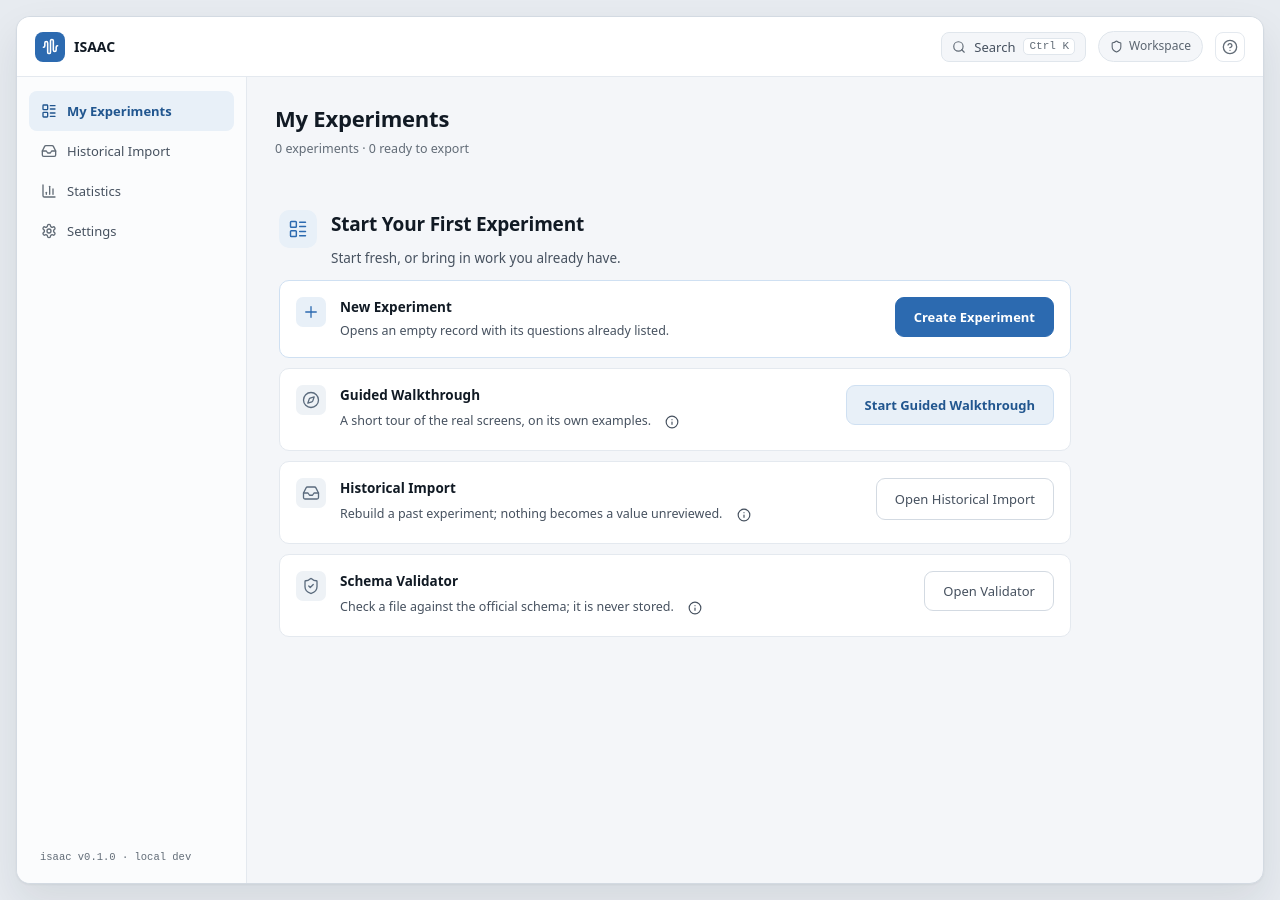
Test: worked-example session — cleanup failure › T5 · a failed DELETE still releases the reader, and leaks no example into the ordinary UI
This screenshot has width=1280, height=900.
Click the button "Start Guided Walkthrough".
click(950, 405)  # box [846,385,1054,425]
(page scrolled)
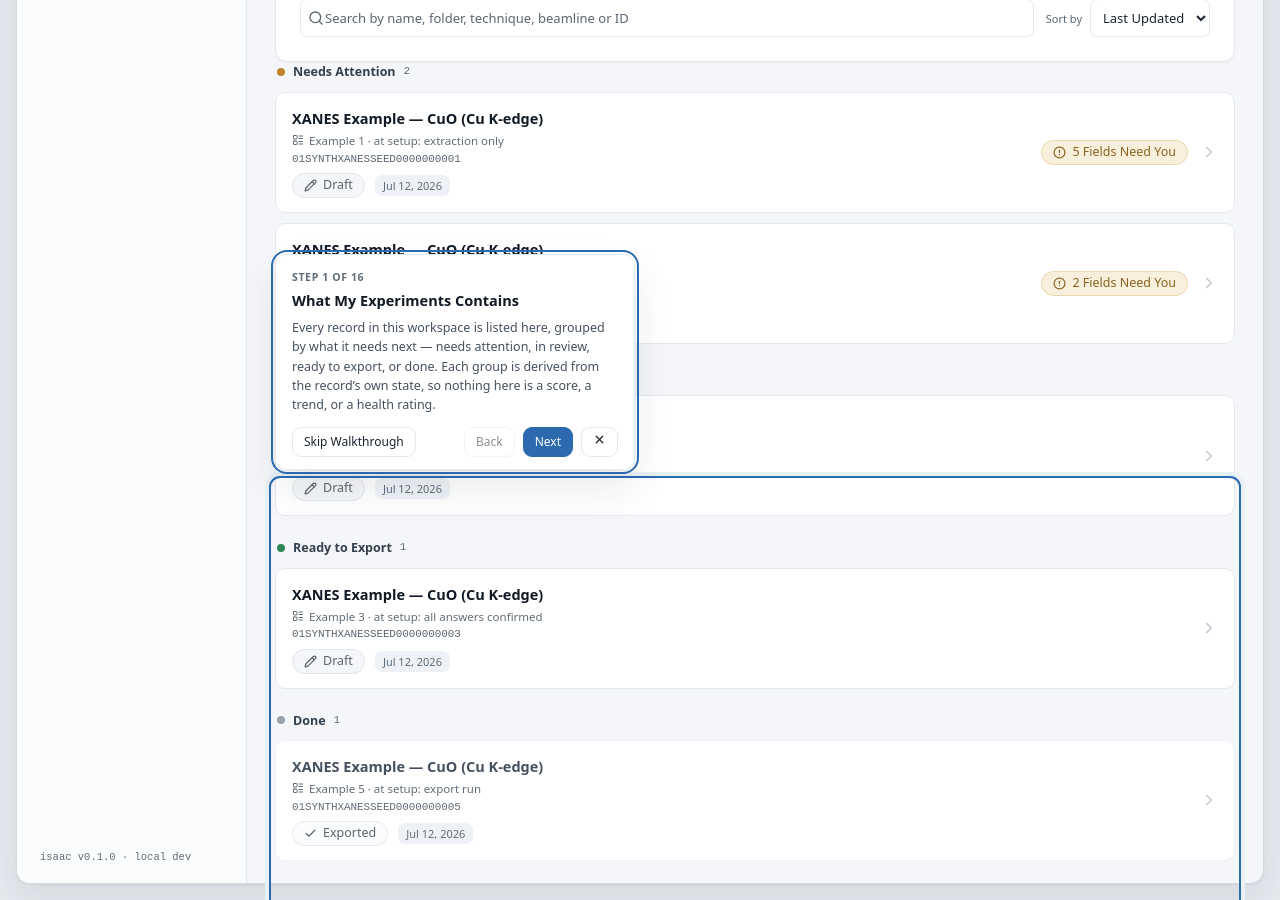
Note: Leave the walkthrough. The DELETE will fail.
Click the button "Skip Walkthrough".
click(354, 442)  # box [292,427,416,457]
(page scrolled)
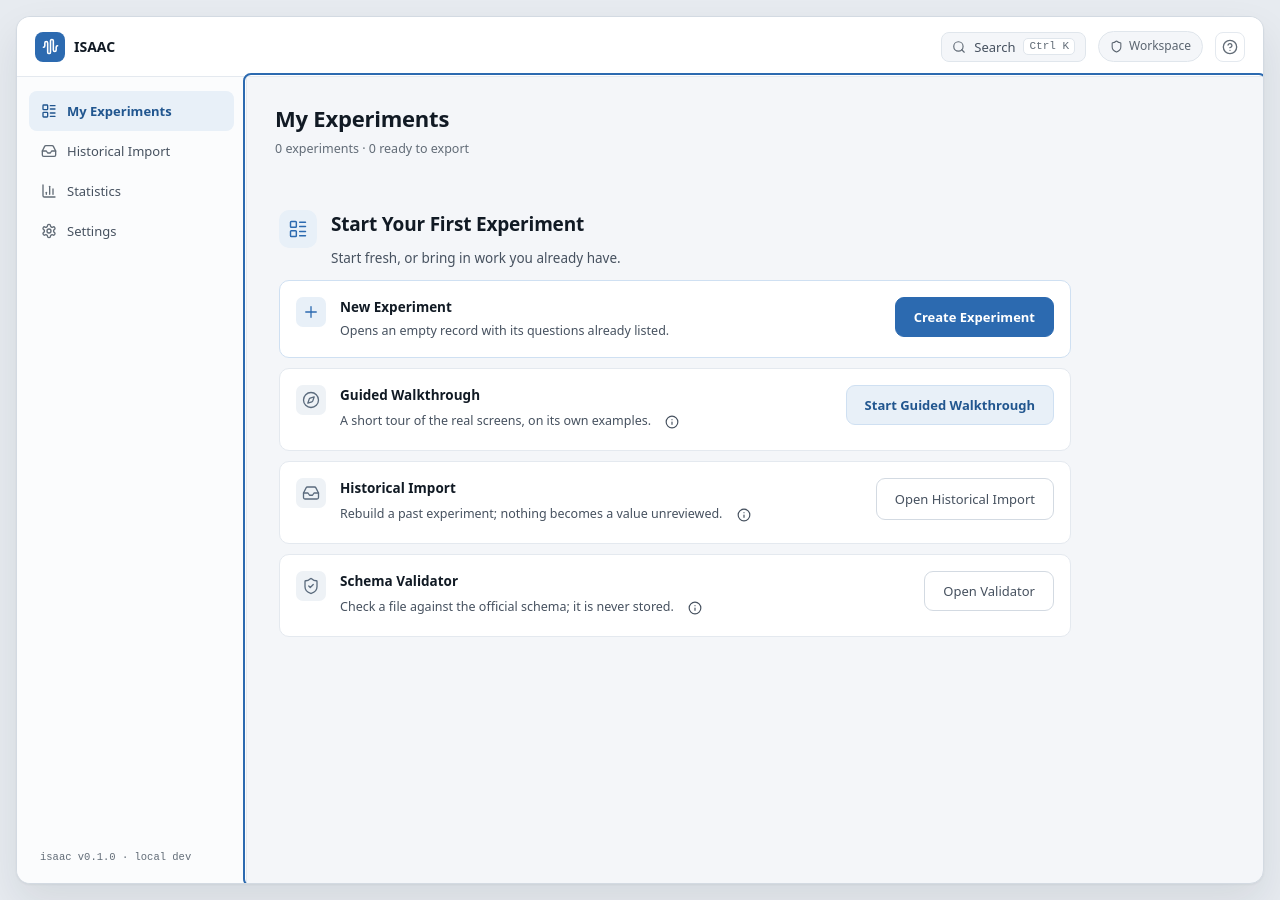
Now no links with class "exp-row" are shown
Now the text "XANES Example" is gone
